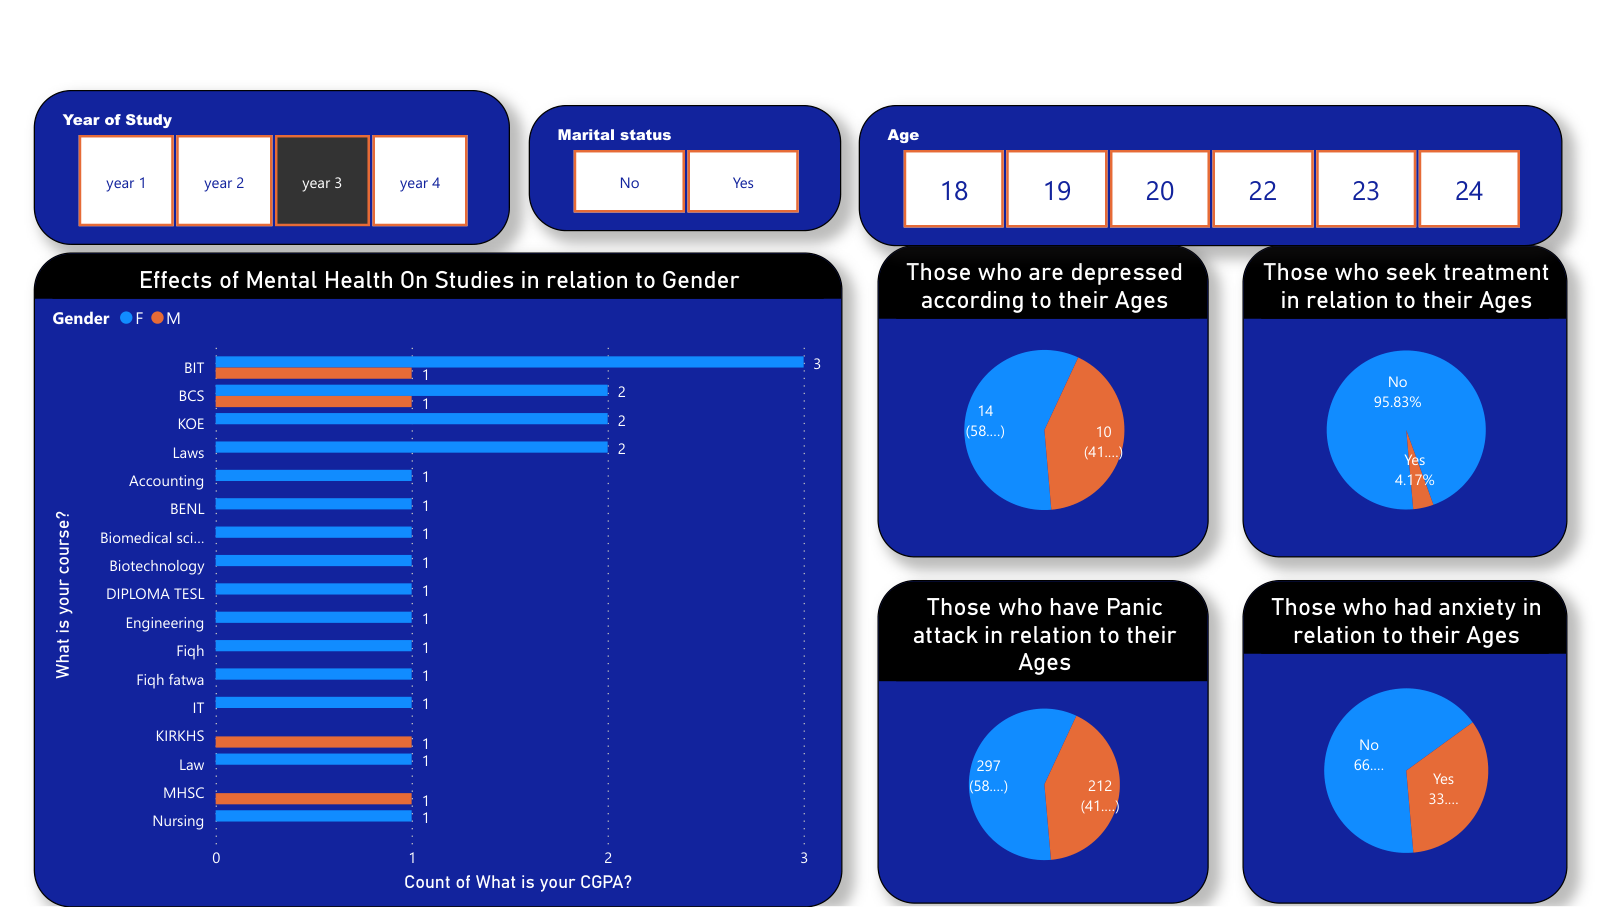

The page's visual inventory and layout, read from the dashboard file:
{"tool":"powerbi","page":{"name":"Page 1","canvas":[1280,720],"ordinal":0},"visuals":[{"type":"slicer","fields":{"Values":["Student Mental health.Your current year of Study"]},"box":[26.9,67.2,381.3,124.3],"z":0},{"type":"pieChart","title":"Those who seek treatment in relation to their Ages","fields":{"Category":["Student Mental health.Did you seek any specialist for a treatment?"],"Y":["CountNonNull(Student Mental health.Age)"]},"box":[994.4,191.5,260.4,250.3],"z":1},{"type":"pieChart","title":"Those who are depressed according to their Ages","fields":{"Y":["CountNonNull(Student Mental health.Age)"],"Series":["Student Mental health.Do you have Depression?"]},"box":[702.2,191.5,265.4,250.3],"z":2},{"type":"pieChart","title":"Those who had anxiety in relation to their Ages","fields":{"Y":["Sum(Student Mental health.Age)"],"Series":["Student Mental health.Do you have Anxiety?"]},"box":[994.4,458.6,260.4,258.7],"z":3},{"type":"pieChart","title":"Those who have Panic attack in relation to their Ages","fields":{"Y":["Sum(Student Mental health.Age)"],"Series":["Student Mental health.Do you have Panic attack?"]},"box":[702.2,458.6,265.4,258.7],"z":4},{"type":"clusteredBarChart","title":"Effects of Mental Health On Studies in relation to Gender","fields":{"Category":["Student Mental health.What is your course?"],"Y":["CountNonNull(Student Mental health.What is your CGPA?)"],"Series":["Student Mental health.Gender"]},"box":[26.9,196.5,646.7,524.1],"z":5},{"type":"slicer","fields":{"Values":["Student Mental health.Marital status"]},"box":[423.3,79,250.3,100.8],"z":6},{"type":"slicer","fields":{"Values":["Student Mental health.Age"]},"box":[687.2,79.2,562.5,112.8],"z":7}]}

Visuals, with their boxes in screenshot pixels (x1, y1, x2, y2), scaled from the page's 1280x720 canvas onto the 1600x913 screenshot:
slicer - Student Mental health.Your current year of Study: <box>34,85,510,243</box>
"Those who seek treatment in relation to their Ages" pieChart: <box>1243,243,1568,560</box>
"Those who are depressed according to their Ages" pieChart: <box>878,243,1210,560</box>
"Those who had anxiety in relation to their Ages" pieChart: <box>1243,582,1568,910</box>
"Those who have Panic attack in relation to their Ages" pieChart: <box>878,582,1210,910</box>
"Effects of Mental Health On Studies in relation to Gender" clusteredBarChart: <box>34,249,842,912</box>
slicer - Student Mental health.Marital status: <box>529,100,842,228</box>
slicer - Student Mental health.Age: <box>859,100,1562,243</box>
